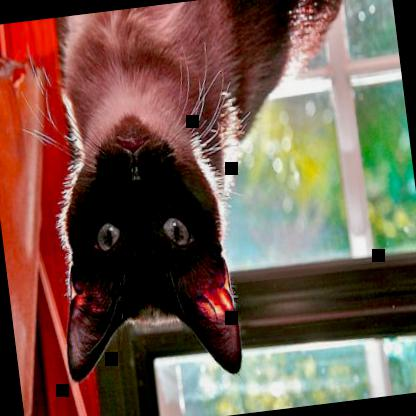cat: (23, 0, 400, 397)
